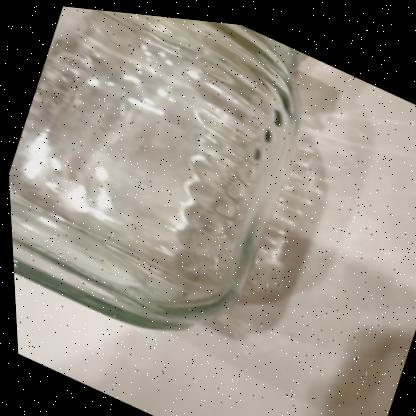Glass: (7, 5, 304, 327)
